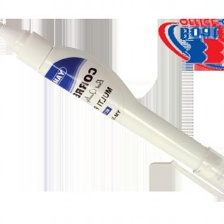correction_fluid: (0, 18, 224, 207)
